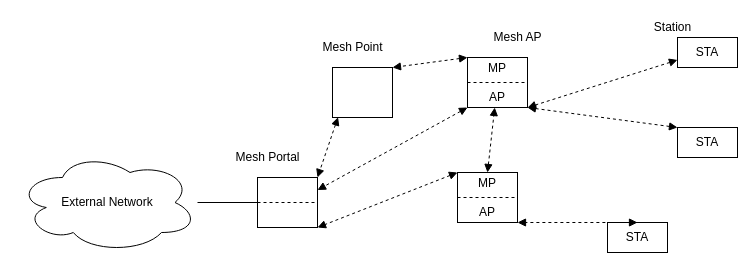
The diagram is 755 pixels wide and 270 high, and some of its shapes have lost their labels. The shapes that lost their labels are listed below. From the top down, each one's centre as x and y in pixels, then its label:
the point at 362,92: MP
the point at 287,202: Portal MP
